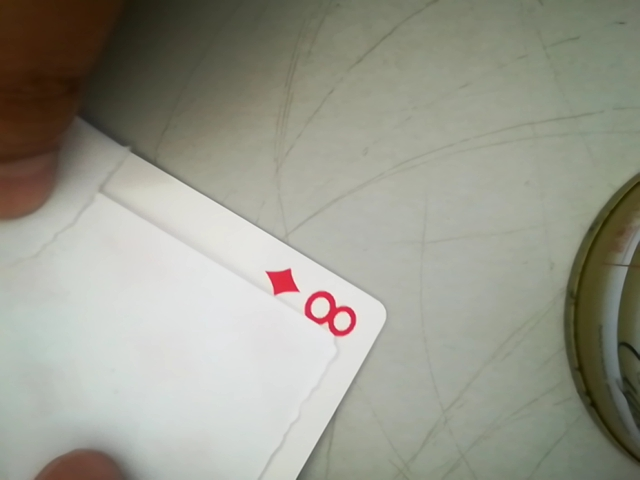fk 8: (268, 266, 370, 349)
